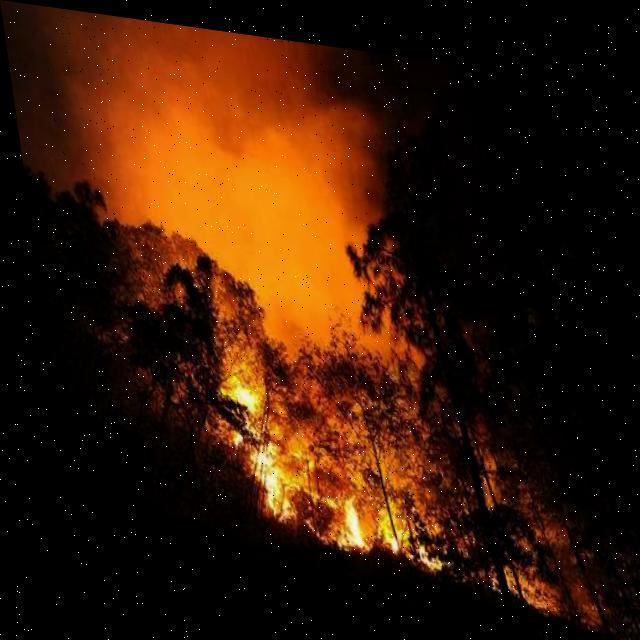Fire: (192, 334, 531, 591)
